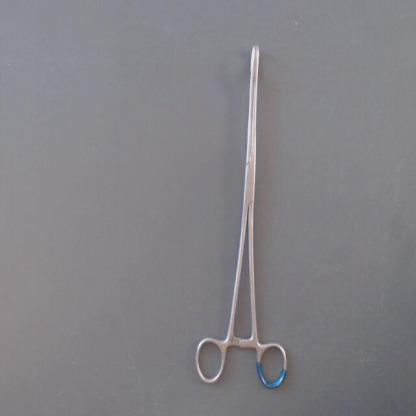Sponge Forceps: (187, 35, 293, 398)
